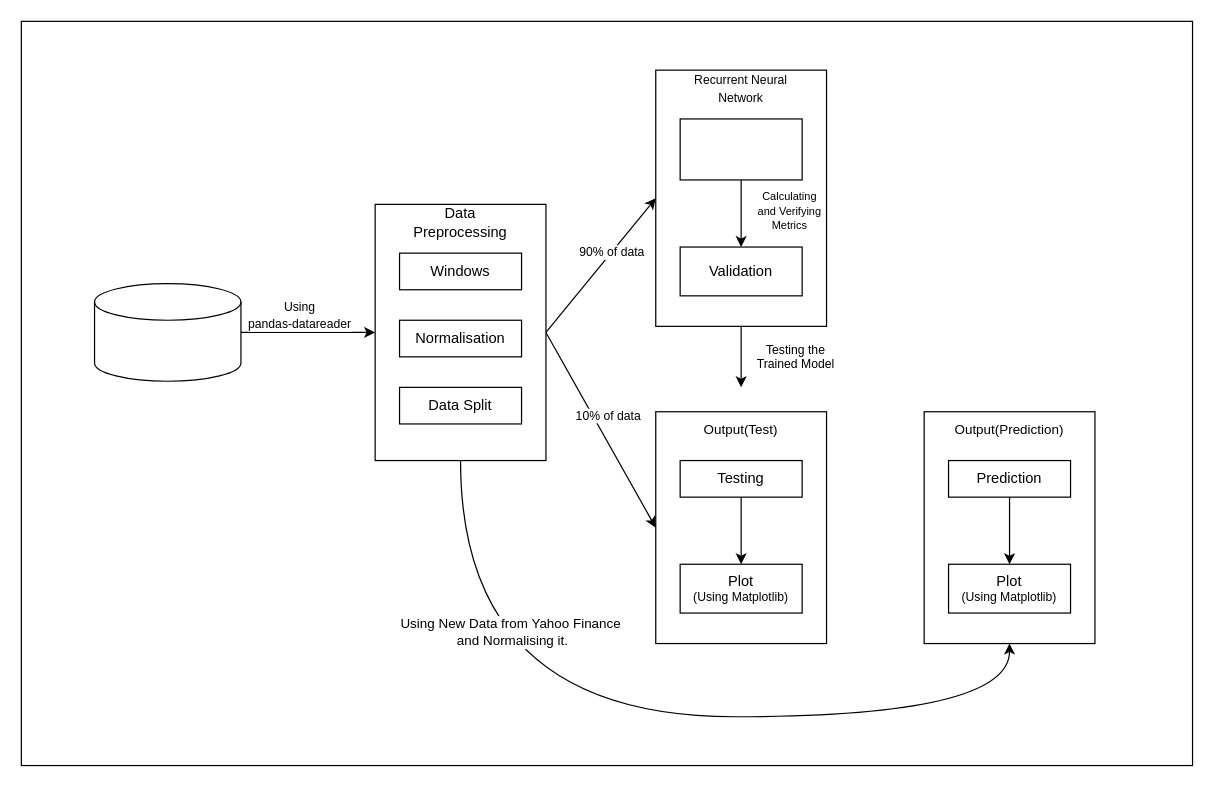
Image size: 1214x787. Some labels were removed from this diagram. The centre of each missing label's shape, as x and y in pixels:
"Build Model (LSTM RNN using keras)" belongs at (x=740, y=149).
"Yahoo Finance Data" belongs at (x=167, y=331).
